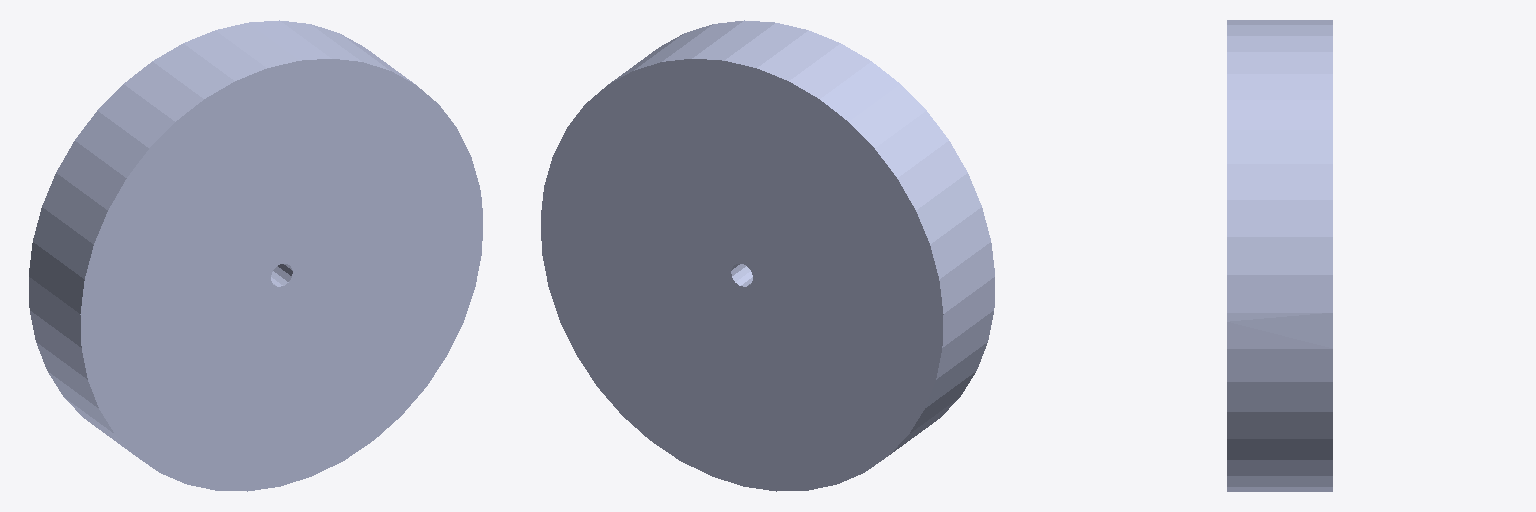
robot.urdf — IRIS_V_URDF_2:
<robot
  name="IRIS_V_URDF_2">
  <link
    name="base_link">
    <inertial>
      <origin
        xyz="0.03046 -4.3725E-05 0.23809"
        rpy="0 0 0" />
      <mass
        value="50" />
      <inertia
        ixx="5.53"
        ixy="0.0015246"
        ixz="-2.2693"
        iyy="14.276"
        iyz="0.00077818"
        izz="12.758" />
    </inertial>
    <visual>
      <origin
        xyz="0 0 0"
        rpy="0 0 0" />
      <geometry>
        <mesh
          filename="package://IRIS_V_URDF_2/meshes/base_link.STL" />
      </geometry>
      <material
        name="">
        <color
          rgba="1 1 1 0.5" />
      </material>
    </visual>
    <collision>
      <origin
        xyz="0 0 0"
        rpy="0 0 0" />
      <geometry>
        <mesh
          filename="package://IRIS_V_URDF_2/meshes/base_link.STL" />
      </geometry>
    </collision>
  </link>
  <link
    name="kinect_link">
    <inertial>
      <origin
        xyz="0.00014306 0.012039 0.0012775"
        rpy="0 0 0" />
      <mass
        value="0.64646" />
      <inertia
        ixx="0.00042407"
        ixy="1.2668E-06"
        ixz="2.5259E-06"
        iyy="0.0029629"
        iyz="-5.3748E-06"
        izz="0.0030028" />
    </inertial>
    <visual>
      <origin
        xyz="0 0 0"
        rpy="0 0 0" />
      <geometry>
        <mesh
          filename="package://IRIS_V_URDF_2/meshes/kinect_link.STL" />
      </geometry>
      <material
        name="">
        <color
          rgba="0.79216 0.81961 0.93333 1" />
      </material>
    </visual>
    <collision>
      <origin
        xyz="0 0 0"
        rpy="0 0 0" />
      <geometry>
        <mesh
          filename="package://IRIS_V_URDF_2/meshes/kinect_link.STL" />
      </geometry>
    </collision>
  </link>
  <joint
    name="kinect_joint"
    type="fixed">
    <origin
      xyz="0.67234 0.0001384 0.4551"
      rpy="2.0944 1.444E-16 1.5708" />
    <parent
      link="base_link" />
    <child
      link="kinect_link" />
    <axis
      xyz="0 0 0" />
  </joint>
  <link
    name="FL_Wheel">
    <inertial>
      <origin
        xyz="-1.1102E-15 -0.026 1.1102E-15"
        rpy="0 0 0" />
      <mass
        value="2.2106" />
      <inertia
        ixx="0.0080212"
        ixy="6.4792E-19"
        ixz="-6.5052E-19"
        iyy="0.015046"
        iyz="4.8471E-19"
        izz="0.0080212" />
    </inertial>
    <visual>
      <origin
        xyz="0 0 0"
        rpy="0 0 0" />
      <geometry>
        <mesh
          filename="package://IRIS_V_URDF_2/meshes/FL_Wheel.STL" />
      </geometry>
      <material
        name="">
        <color
          rgba="0.79216 0.81961 0.93333 1" />
      </material>
    </visual>
    <collision>
      <origin
        xyz="0 0 0"
        rpy="0 0 0" />
      <geometry>
        <mesh
          filename="package://IRIS_V_URDF_2/meshes/FL_Wheel.STL" />
      </geometry>
    </collision>
  </link>
  <joint
    name="FL_joint"
    type="continuous">
    <origin
      xyz="0.36017 0.27899 0"
      rpy="9.147E-17 0.23805 3.1416" />
    <parent
      link="base_link" />
    <child
      link="FL_Wheel" />
    <axis
      xyz="0 -1 0" />
    <limit
      effort="0"
      velocity="4.3" />
  </joint>
  <link
    name="fr_wheel">
    <inertial>
      <origin
        xyz="-9.992E-16 -0.026 1.1102E-15"
        rpy="0 0 0" />
      <mass
        value="2.2106" />
      <inertia
        ixx="0.0080212"
        ixy="8.8397E-19"
        ixz="-3.2526E-19"
        iyy="0.015046"
        iyz="4.6848E-19"
        izz="0.0080212" />
    </inertial>
    <visual>
      <origin
        xyz="0 0 0"
        rpy="0 0 0" />
      <geometry>
        <mesh
          filename="package://IRIS_V_URDF_2/meshes/fr_wheel.STL" />
      </geometry>
      <material
        name="">
        <color
          rgba="0.79216 0.81961 0.93333 1" />
      </material>
    </visual>
    <collision>
      <origin
        xyz="0 0 0"
        rpy="0 0 0" />
      <geometry>
        <mesh
          filename="package://IRIS_V_URDF_2/meshes/fr_wheel.STL" />
      </geometry>
    </collision>
  </link>
  <joint
    name="fr_joint"
    type="continuous">
    <origin
      xyz="0.36017 -0.279 0"
      rpy="-3.1416 -1.417 3.1416" />
    <parent
      link="base_link" />
    <child
      link="fr_wheel" />
    <axis
      xyz="0 -1 0" />
    <limit
      effort="0"
      velocity="4.3" />
  </joint>
  <link
    name="bl_wheel">
    <inertial>
      <origin
        xyz="-8.8818E-16 -0.026 8.8818E-16"
        rpy="0 0 0" />
      <mass
        value="2.2106" />
      <inertia
        ixx="0.0080212"
        ixy="-1.7096E-19"
        ixz="4.3368E-19"
        iyy="0.015046"
        iyz="1.4843E-20"
        izz="0.0080212" />
    </inertial>
    <visual>
      <origin
        xyz="0 0 0"
        rpy="0 0 0" />
      <geometry>
        <mesh
          filename="package://IRIS_V_URDF_2/meshes/bl_wheel.STL" />
      </geometry>
      <material
        name="">
        <color
          rgba="0.79216 0.81961 0.93333 1" />
      </material>
    </visual>
    <collision>
      <origin
        xyz="0 0 0"
        rpy="0 0 0" />
      <geometry>
        <mesh
          filename="package://IRIS_V_URDF_2/meshes/bl_wheel.STL" />
      </geometry>
    </collision>
  </link>
  <joint
    name="bl_link"
    type="continuous">
    <origin
      xyz="-0.36055 0.331 0"
      rpy="-3.1416 -1.179 3.1416" />
    <parent
      link="base_link" />
    <child
      link="bl_wheel" />
    <axis
      xyz="0 -1 0" />
    <limit
      effort="0"
      velocity="4.3" />
  </joint>
  <link
    name="br_wheel">
    <inertial>
      <origin
        xyz="-1.1102E-15 -0.026 1.1657E-15"
        rpy="0 0 0" />
      <mass
        value="2.2106" />
      <inertia
        ixx="0.0080212"
        ixy="-4.8146E-20"
        ixz="3.1296E-33"
        iyy="0.015046"
        iyz="-8.8139E-21"
        izz="0.0080212" />
    </inertial>
    <visual>
      <origin
        xyz="0 0 0"
        rpy="0 0 0" />
      <geometry>
        <mesh
          filename="package://IRIS_V_URDF_2/meshes/br_wheel.STL" />
      </geometry>
      <material
        name="">
        <color
          rgba="0.79216 0.81961 0.93333 1" />
      </material>
    </visual>
    <collision>
      <origin
        xyz="0 0 0"
        rpy="0 0 0" />
      <geometry>
        <mesh
          filename="package://IRIS_V_URDF_2/meshes/br_wheel.STL" />
      </geometry>
    </collision>
  </link>
  <joint
    name="br_joint"
    type="continuous">
    <origin
      xyz="-0.36055 -0.33101 0"
      rpy="1.7389E-16 -2.949E-17 -3.1416" />
    <parent
      link="base_link" />
    <child
      link="br_wheel" />
    <axis
      xyz="0 -1 0" />
    <limit
      effort="0"
      velocity="4.3" />
  </joint>
</robot>

--- What the picture shows (computed from the rendered views, not written in the file) ---
The picture shows the robot from 3 angles, left to right: view 1: azimuth 30°, elevation 25°; view 2: azimuth 150°, elevation 25°; view 3: azimuth 270°, elevation 25°; orthographic projection.
Model IRIS_V_URDF_2 with 6 links and 5 joints (4 continuous, 1 fixed), rooted at base_link, posed all joints at 0.
Visible links, largest first — view 1: fr_wheel; view 2: fr_wheel; view 3: fr_wheel.
Link boxes in pixels (<box>): fr_wheel: <box>29,20,482,491</box>; fr_wheel: <box>541,20,994,491</box>; fr_wheel: <box>1227,20,1332,491</box>.
Size in the robot's own frame: 0.2328 by 0.052 by 0.2327 metres.
Meshes: 6 distinct files referenced, 1 mesh visuals loaded (1 binary STL); not drawn: 5 (reference not matched to a file when rendering).